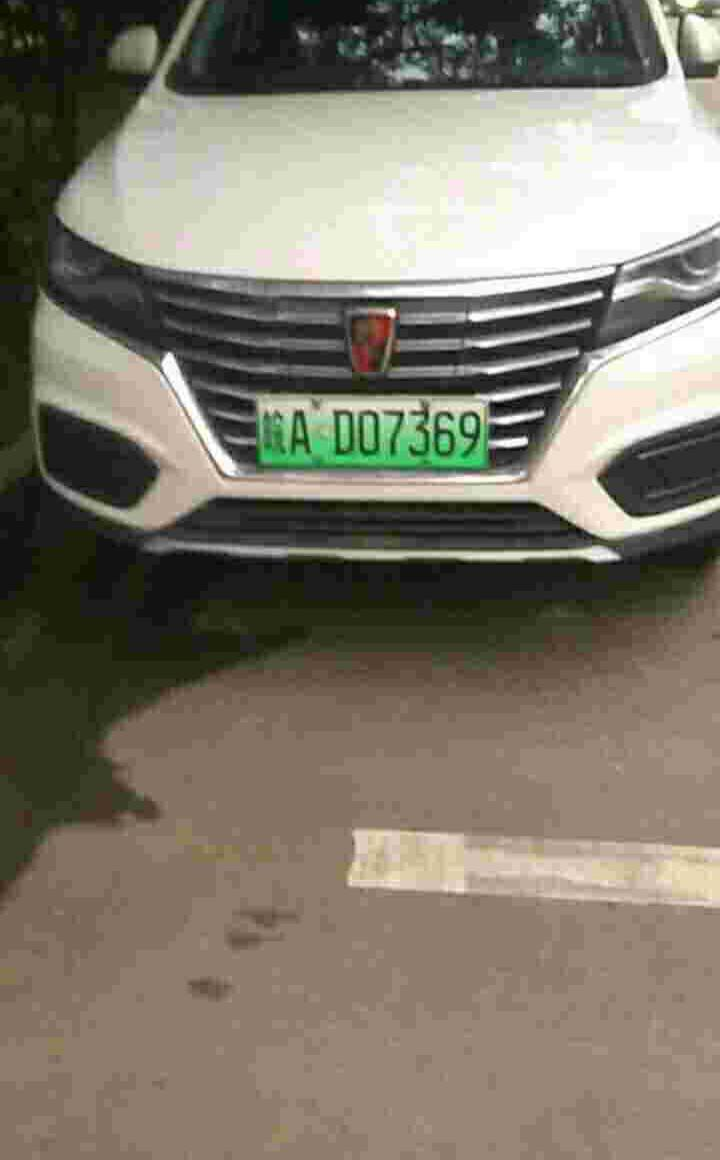car: (251, 394, 492, 479)
